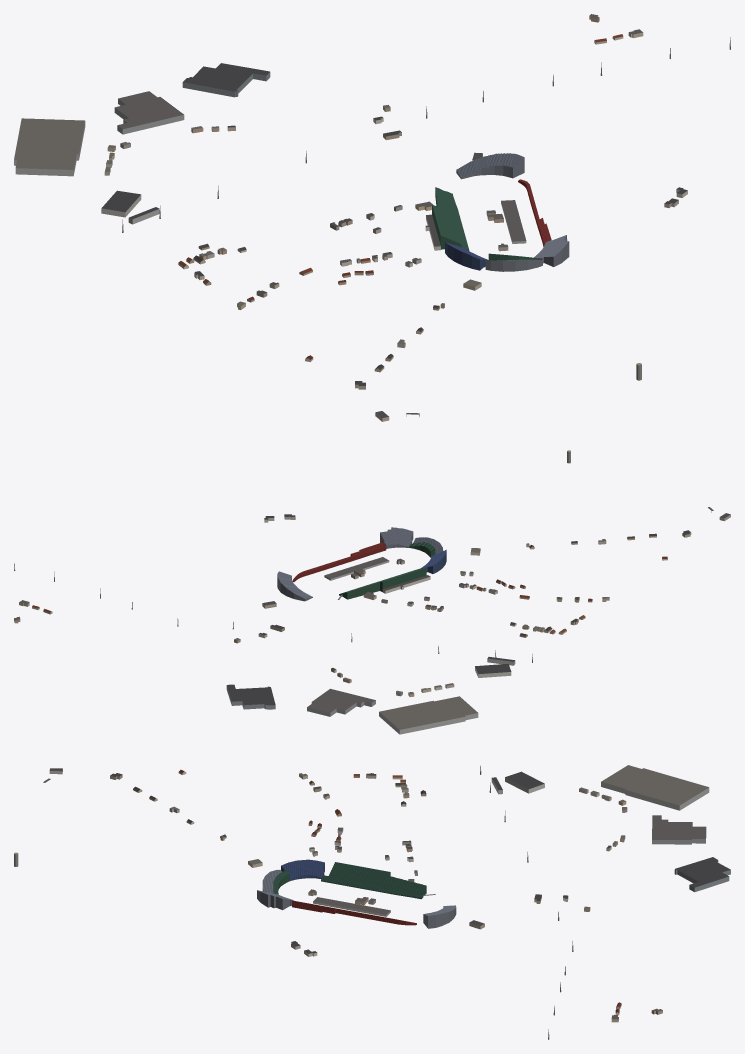
Rendered from scenery.glb.
The picture shows the model from 3 angles, top to bottom: view 1: azimuth 30°, elevation 25°; view 2: azimuth 150°, elevation 25°; view 3: azimuth 270°, elevation 25°; orthographic projection. The views are drawn at different scales.
Parts seen in each view (by area): view 1: chunk_14_13, chunk_13_13, chunk_14_15, chunk_15_15, chunk_14_14, chunk_13_14, chunk_15_14; view 2: chunk_13_13, chunk_14_13, chunk_15_15, chunk_14_15, chunk_14_14, chunk_13_14, chunk_15_14; view 3: chunk_13_13, chunk_14_13, chunk_14_14, chunk_15_15, chunk_14_15, chunk_13_14, chunk_15_14.
Part boxes in pixels (x1,y1,x2,y2): chunk_14_13: (114, 63, 270, 148); chunk_13_13: (14, 118, 115, 176); chunk_14_15: (299, 214, 542, 334); chunk_15_15: (487, 179, 687, 266); chunk_14_14: (217, 151, 469, 250); chunk_13_14: (101, 190, 246, 279); chunk_15_14: (383, 130, 524, 216); chunk_13_13: (379, 683, 478, 734); chunk_14_13: (226, 668, 402, 716); chunk_15_15: (264, 514, 413, 581); chunk_14_15: (382, 537, 577, 599); chunk_14_14: (339, 567, 443, 653); chunk_13_14: (475, 618, 578, 677); chunk_15_14: (262, 571, 358, 631); chunk_13_13: (579, 765, 709, 810); chunk_14_13: (606, 807, 730, 892); chunk_14_14: (321, 810, 528, 899); chunk_15_15: (257, 889, 416, 956); chunk_14_15: (186, 809, 343, 894); chunk_13_14: (366, 765, 544, 806); chunk_15_14: (368, 894, 541, 929).
Size of the model in its own units: 1411 by 62.4 by 1597.
